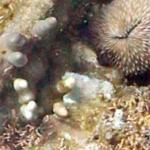alive: (3, 4, 147, 148)
